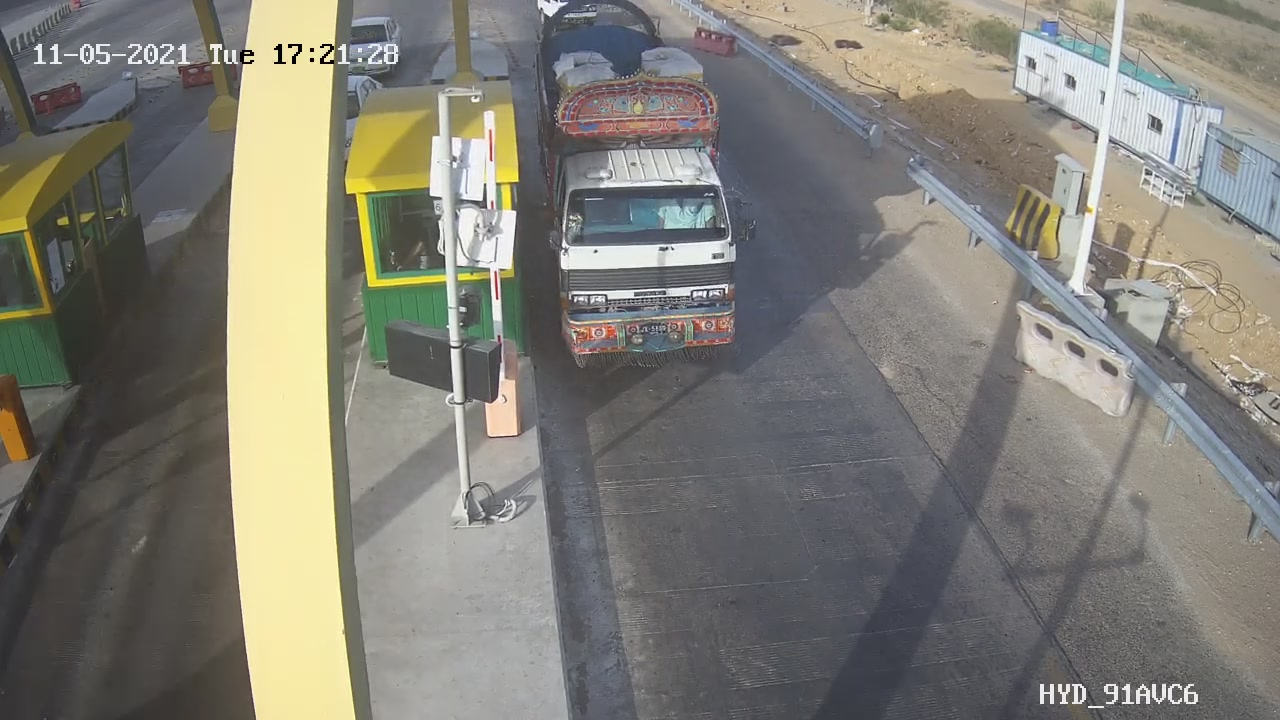F5: (517, 1, 776, 385)
